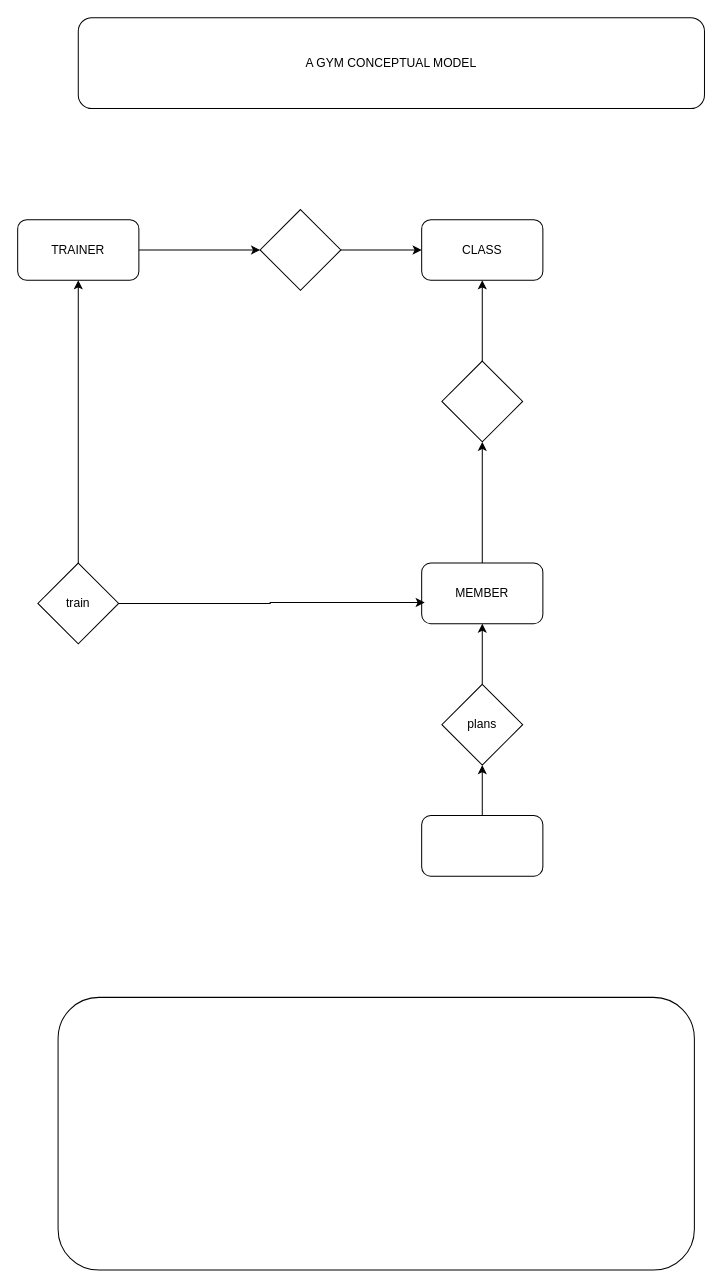
Image size: 722x1288. Some labels were removed from this diagram. Here are the shapes that lost their labels. From the top down, the centre of each, then its label:
point 300,249: lead
point 482,401: enrol
point 482,845: WORKOUT
